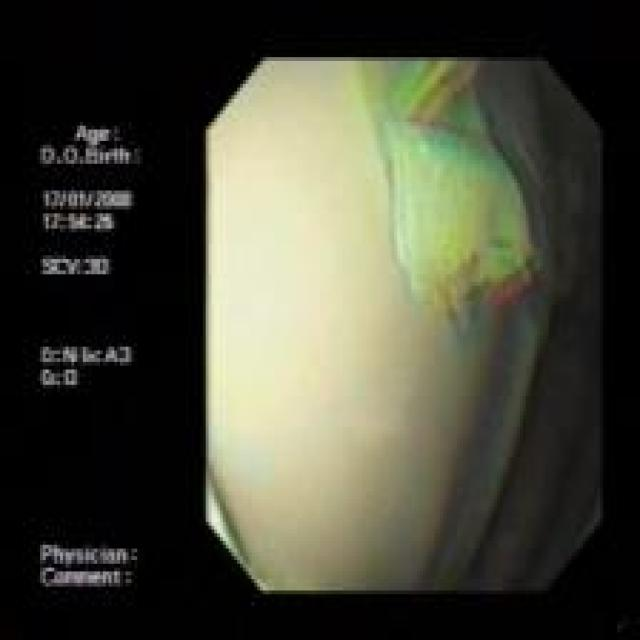color misalignment: (207, 59, 599, 592), (350, 60, 545, 354), (38, 122, 142, 592)
